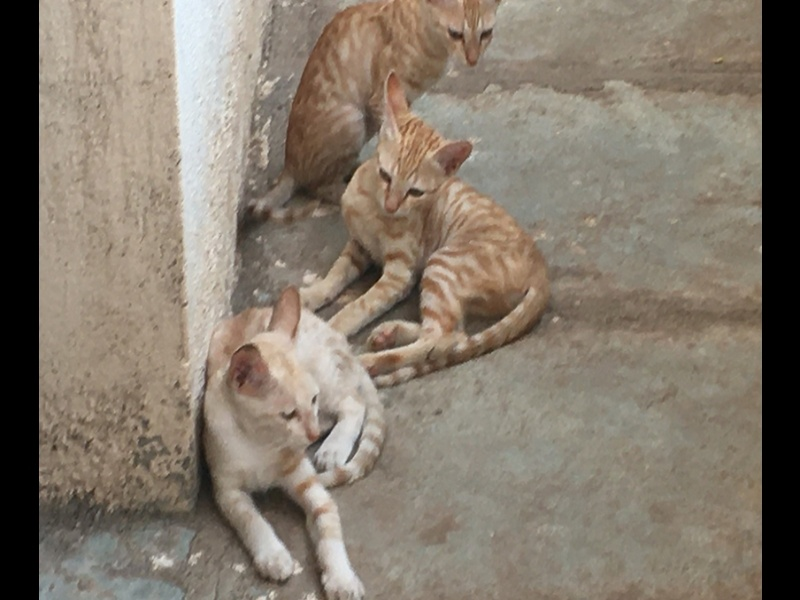cat: (303, 71, 553, 385), (240, 1, 511, 232), (193, 291, 381, 600)
